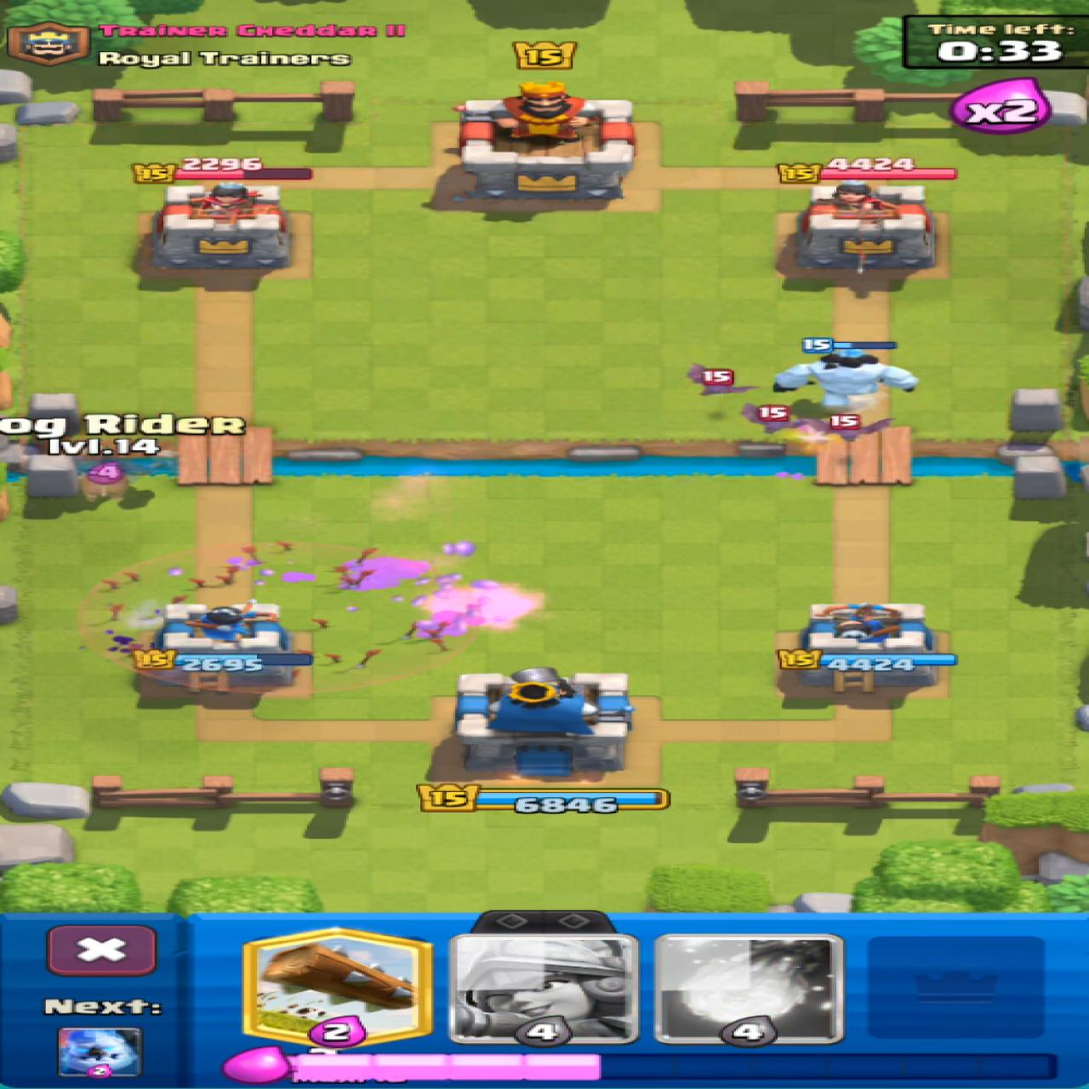Enemy-Bat: (802, 414, 891, 440), (743, 404, 823, 432), (688, 367, 758, 395)
Enemy-KingTower: (460, 83, 634, 200)
Enemy-PrincessTower: (784, 182, 934, 280), (152, 186, 290, 269)
